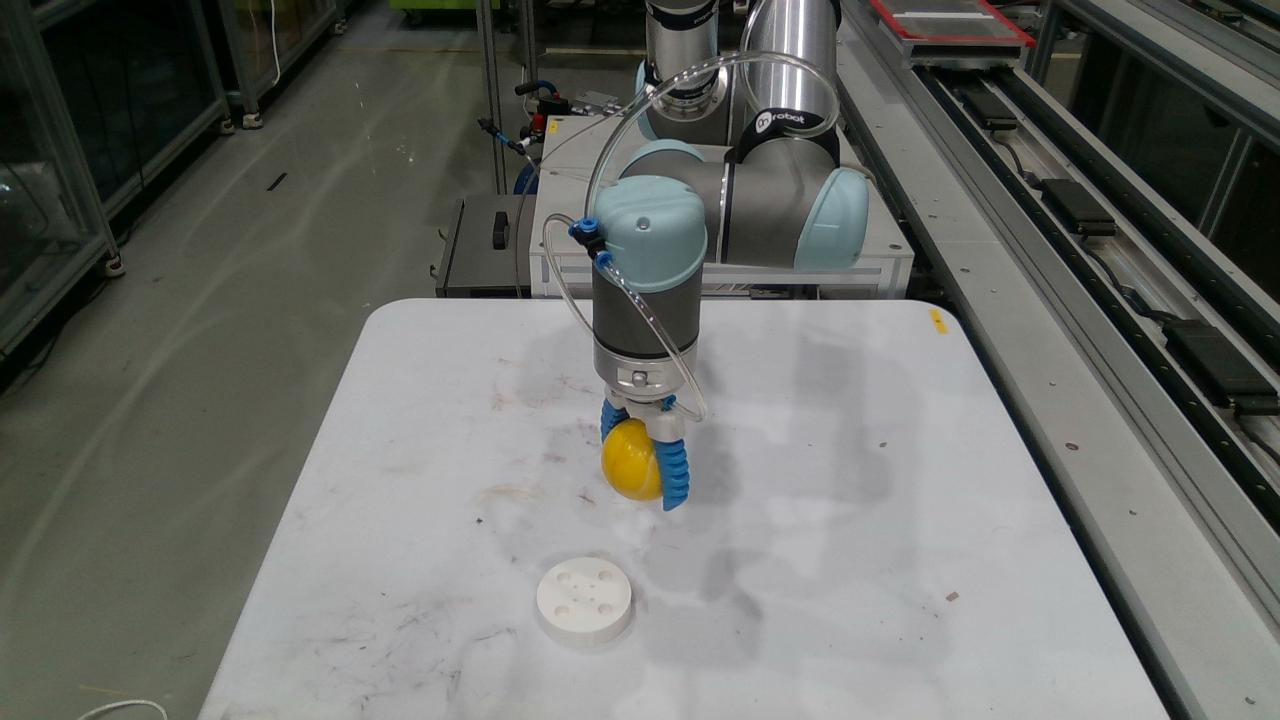UR5: (589, 0, 868, 442)
gripper_left: (600, 399, 629, 444)
gripper_right: (655, 439, 689, 511)
target: (535, 557, 634, 649), (601, 419, 663, 501)
